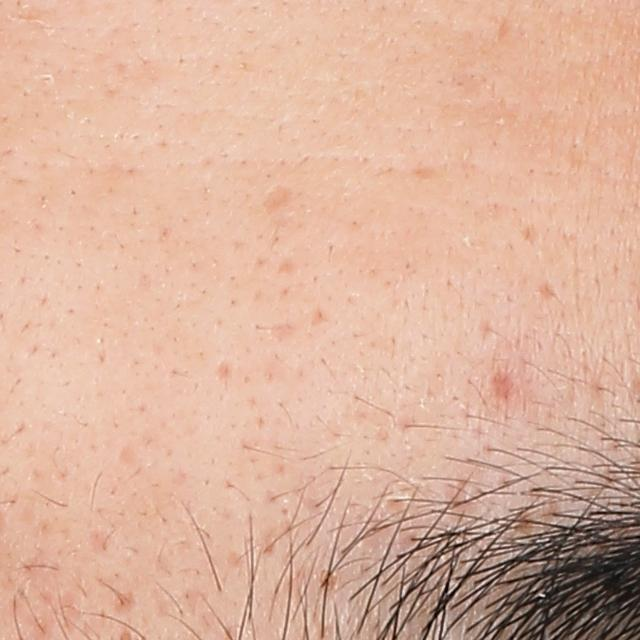atrophic_scar: (483, 363, 522, 407), (263, 183, 294, 214), (91, 527, 121, 556), (534, 278, 564, 303), (268, 322, 302, 344), (217, 356, 239, 383), (116, 444, 141, 465), (310, 306, 330, 329), (277, 257, 299, 274)
